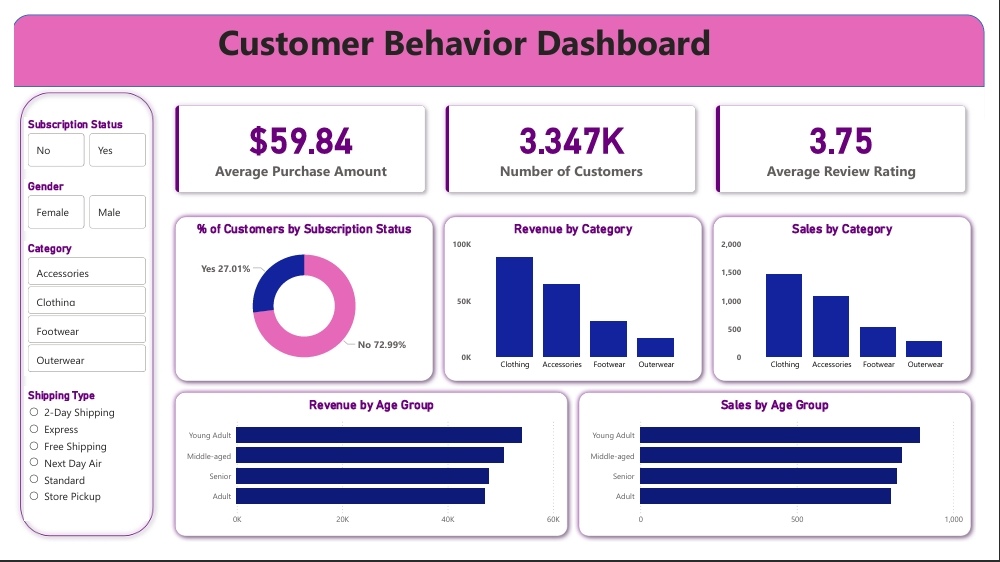

The page's visual inventory and layout, read from the dashboard file:
{"tool":"powerbi","page":{"name":"Page 1","canvas":[1500,820],"ordinal":0},"visuals":[{"type":"cardVisual","fields":{"Data":["public_customer.Average Purchase Amount","public_customer.Number of Customers","public_customer.Average Review Rating"]},"box":[220,112,1280,192],"z":0},{"type":"shape","box":[-4,0,1504,112],"z":1000},{"type":"textbox","box":[0,0,1392,112],"z":2000},{"type":"shape","box":[240,304,416,272],"z":3000},{"type":"donutChart","title":"% of Customers by Subscription Status","fields":{"Category":["public_customer.subscription_status"],"Y":["CountNonNull(public_customer.customer_id)"]},"box":[256,320,384,240],"z":4000},{"type":"shape","box":[656,304,416,272],"z":5000},{"type":"shape","box":[1072,304,416,272],"z":6000},{"type":"clusteredColumnChart","title":"Revenue by Category","fields":{"Y":["Sum(public_customer.purchase_amount_usd)"],"Category":["public_customer.category"]},"box":[672,320,384,240],"z":7000},{"type":"clusteredColumnChart","title":"Sales by Category","fields":{"Category":["public_customer.category"],"Y":["CountNonNull(public_customer.customer_id)"]},"box":[1088,320,384,240],"z":8000},{"type":"shape","box":[0,144,224,656],"z":9000},{"type":"advancedSlicerVisual","title":"Subscription Status","fields":{"Values":["public_customer.subscription_status"]},"box":[16,176,192,80],"z":10000},{"type":"advancedSlicerVisual","title":"Gender","fields":{"Values":["public_customer.gender"]},"box":[16,272,192,80],"z":11000},{"type":"advancedSlicerVisual","title":"Category","fields":{"Values":["public_customer.category"]},"box":[16,368,192,208],"z":12000},{"type":"listSlicer","title":"Shipping Type","fields":{"Values":["public_customer.shipping_type"]},"box":[16,576,192,192],"z":13000},{"type":"shape","box":[864,576,624,240],"z":15000},{"type":"clusteredBarChart","title":"Sales by Age Group","fields":{"Category":["public_customer.age_group"],"Y":["CountNonNull(public_customer.customer_id)"]},"box":[880,592,592,208],"z":15002},{"type":"shape","box":[240,576,624,240],"z":15003},{"type":"clusteredBarChart","title":"Revenue by Age Group","fields":{"Category":["public_customer.age_group"],"Y":["Sum(public_customer.purchase_amount_usd)"]},"box":[256,592,592,208],"z":15004}]}

Visuals, with their boxes in screenshot pixels (x1, y1, x2, y2), scaled from the page's 1500x820 canvas onto the 1000x562 screenshot:
cardVisual - public_customer.Average Purchase Amount x public_customer.Number of Customers: 147:77:999:208
shape: 0:0:999:77
textbox: 0:0:928:77
shape: 160:208:437:395
"% of Customers by Subscription Status" donutChart: 171:219:427:384
shape: 437:208:715:395
shape: 715:208:992:395
"Revenue by Category" clusteredColumnChart: 448:219:704:384
"Sales by Category" clusteredColumnChart: 725:219:981:384
shape: 0:99:149:548
"Subscription Status" advancedSlicerVisual: 11:121:139:175
"Gender" advancedSlicerVisual: 11:186:139:241
"Category" advancedSlicerVisual: 11:252:139:395
"Shipping Type" listSlicer: 11:395:139:526
shape: 576:395:992:559
"Sales by Age Group" clusteredBarChart: 587:406:981:548
shape: 160:395:576:559
"Revenue by Age Group" clusteredBarChart: 171:406:565:548
